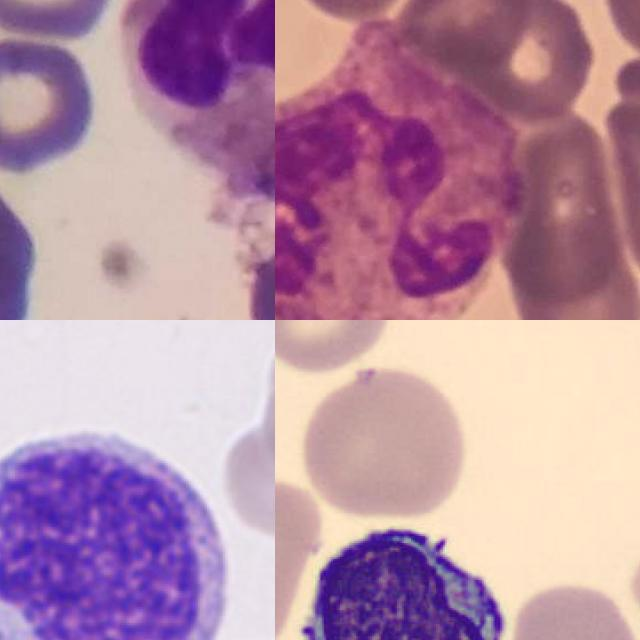Eosinophil: (126, 0, 275, 206)
Lymphocyte: (0, 411, 246, 640), (285, 507, 518, 640)
Neutrophil: (275, 20, 527, 320)
RBC: (292, 361, 472, 522), (487, 576, 640, 640), (275, 474, 324, 640), (216, 415, 275, 545), (275, 320, 396, 375)
